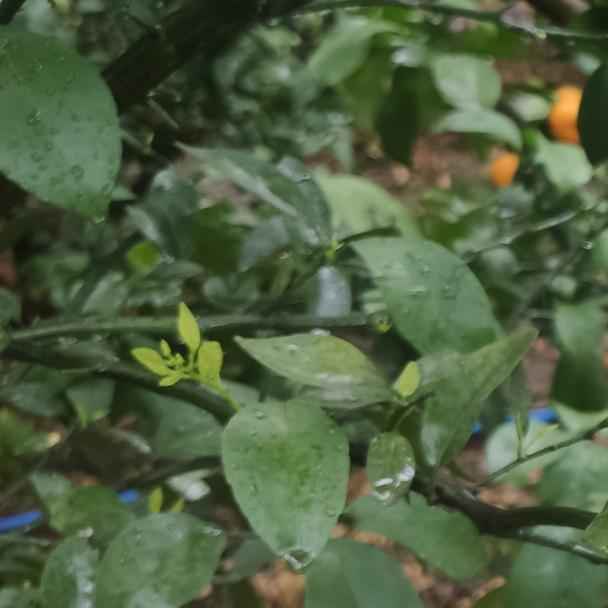shoot: (138, 313, 243, 421)
